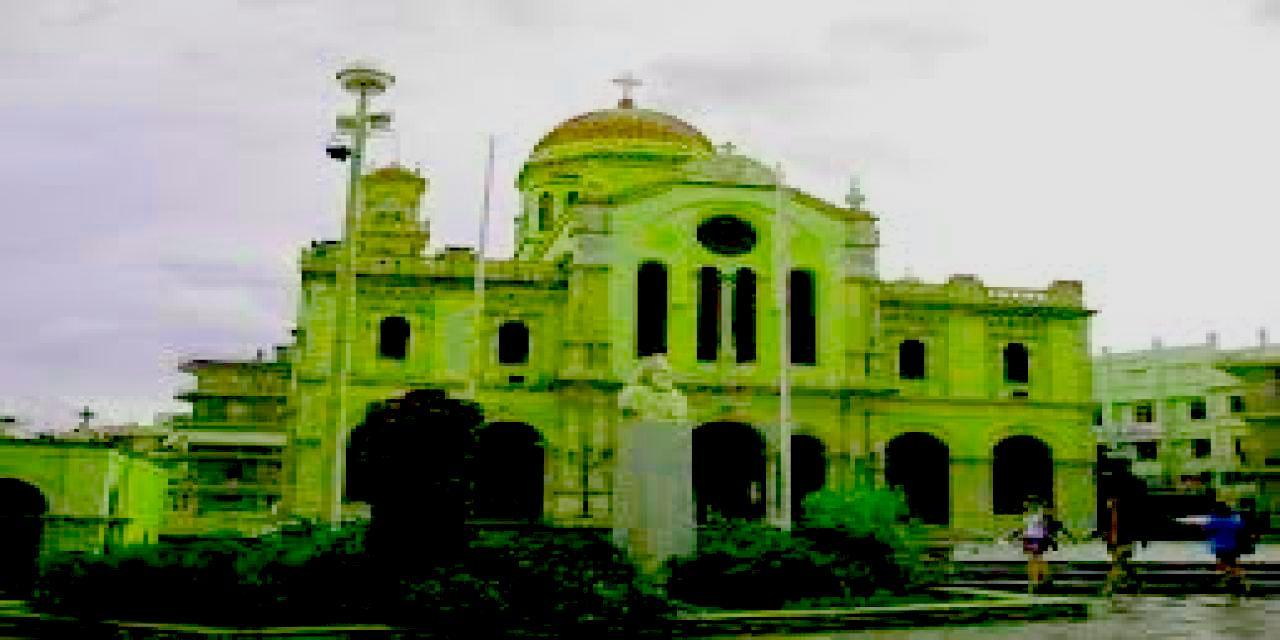Agios Minas: (306, 52, 1111, 557)
